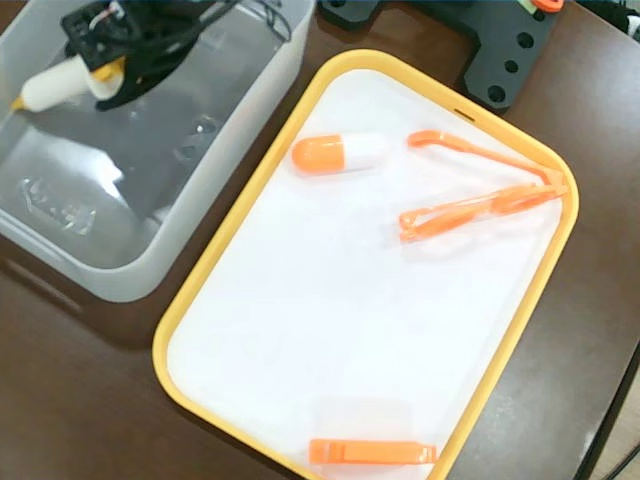pill: (291, 126, 391, 176)
